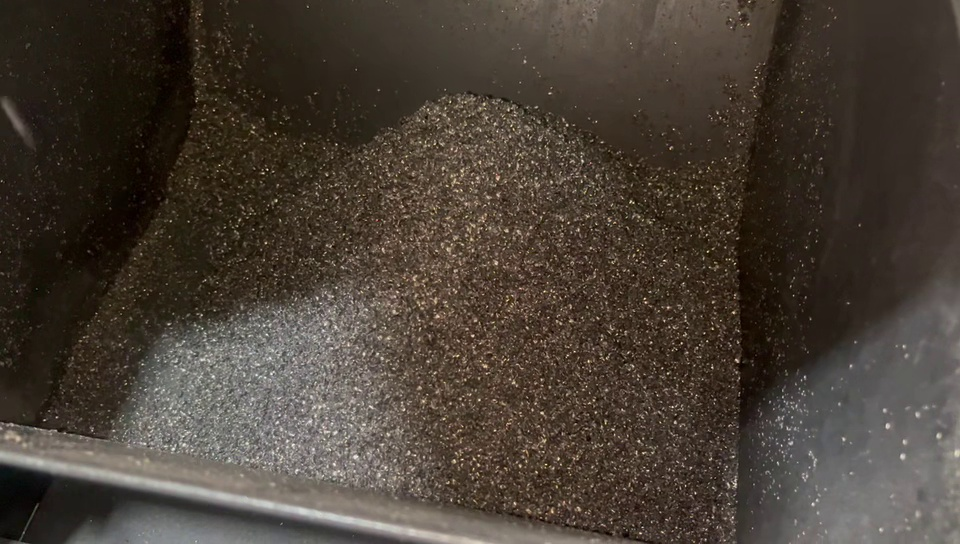iron_scrap: (74, 300, 735, 424), (150, 186, 727, 293), (365, 91, 629, 187), (526, 426, 737, 543), (243, 432, 526, 498), (187, 112, 357, 179)
